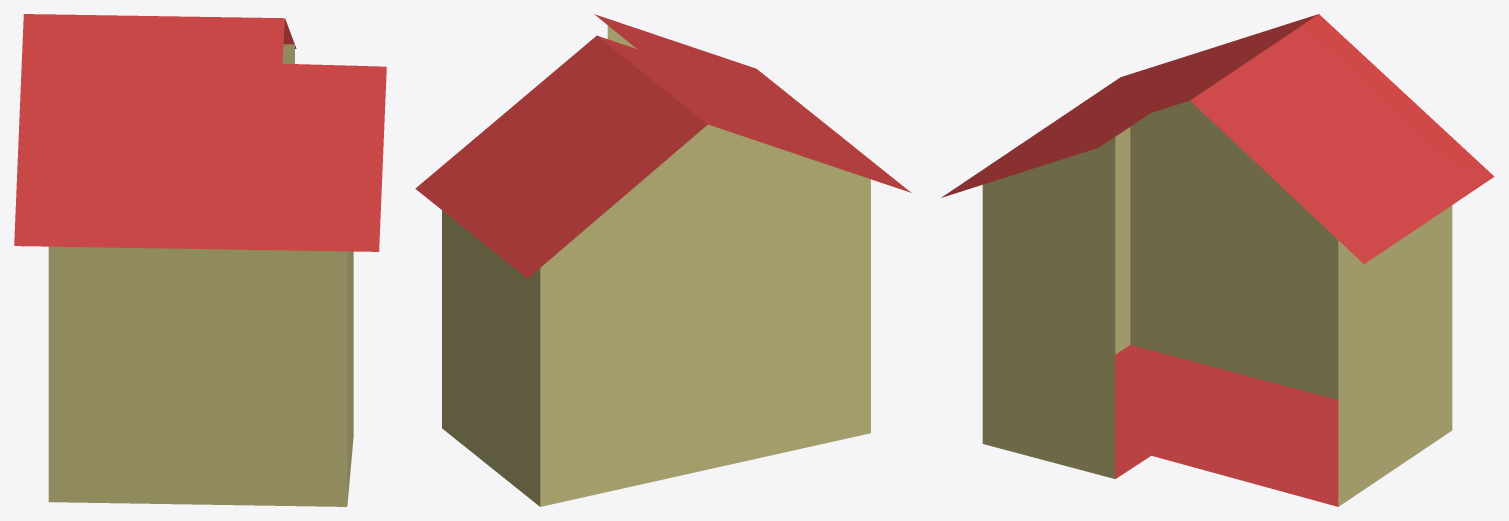
The picture shows the model from 3 angles, left to right: view 1: azimuth 30°, elevation 25°; view 2: azimuth 150°, elevation 25°; view 3: azimuth 270°, elevation 25°; orthographic projection. The views are drawn at different scales.
Visible parts, largest first — view 1: group_3, group_5, group_4; view 2: group_5, group_3, group_4; view 3: group_5, group_3, group_6, group_4.
Part boxes in pixels (left/top/right/bottom): group_3: left=14, top=14, right=386, bottom=251; group_5: left=48, top=44, right=353, bottom=506; group_4: left=352, top=71, right=386, bottom=248; group_5: left=442, top=25, right=870, bottom=506; group_3: left=415, top=14, right=911, bottom=278; group_4: left=420, top=17, right=753, bottom=276; group_5: left=982, top=100, right=1452, bottom=506; group_3: left=941, top=14, right=1494, bottom=263; group_6: left=1115, top=345, right=1338, bottom=506; group_4: left=947, top=18, right=1493, bottom=261.
Size of the model in its own units: 10.82 by 13.55 by 9.86.
